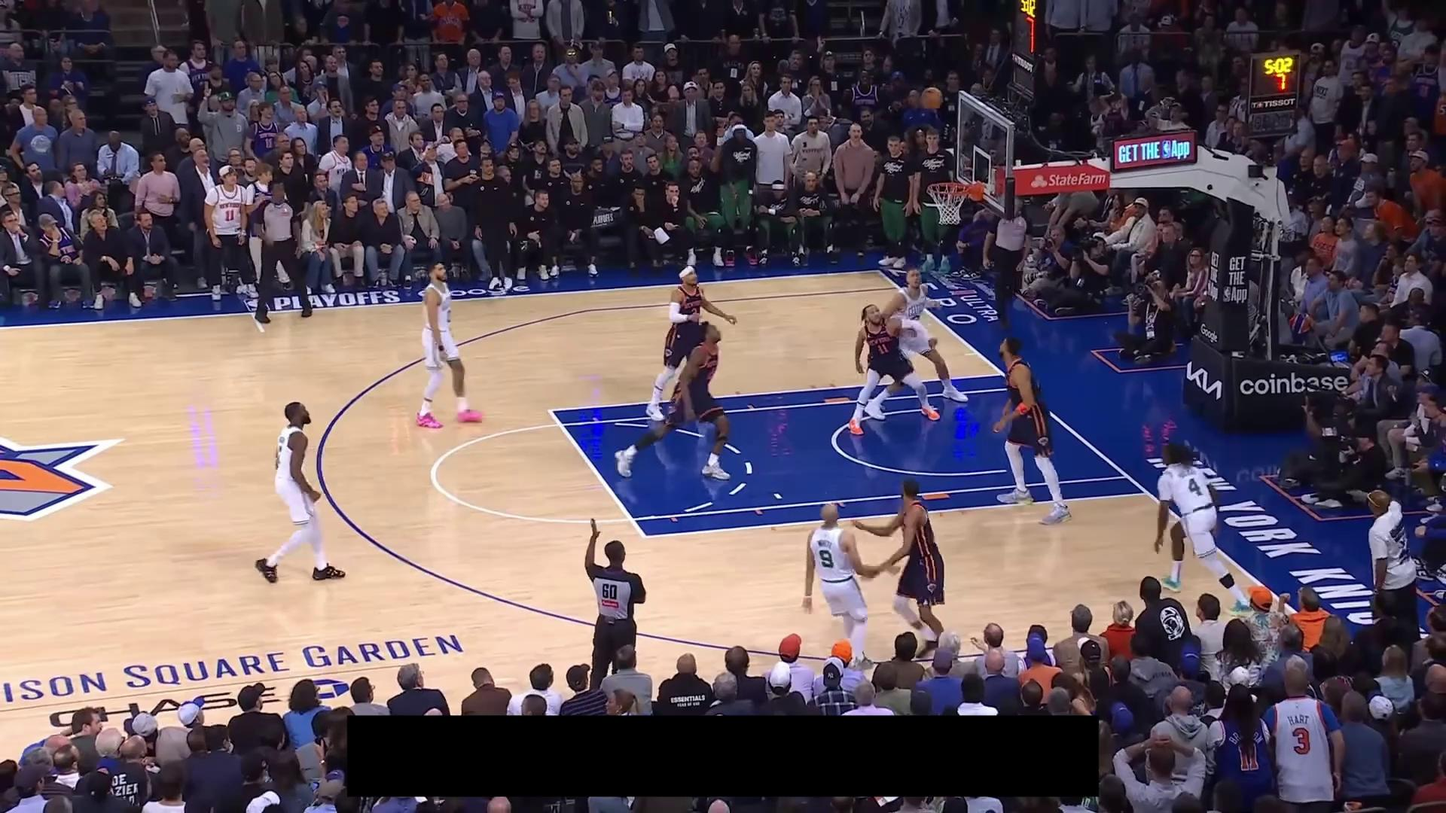ball: (920, 87, 943, 110)
number: (1187, 477, 1203, 496), (819, 549, 834, 568), (877, 342, 889, 355)
player: (613, 320, 734, 484), (850, 476, 950, 662), (1152, 437, 1254, 616), (253, 400, 347, 584), (864, 266, 970, 420), (991, 334, 1073, 527), (798, 501, 890, 673), (644, 263, 739, 422), (846, 303, 941, 437), (414, 258, 485, 430)
referee: (584, 514, 647, 693), (248, 178, 314, 324), (982, 197, 1033, 331)
rim: (926, 181, 970, 196)
